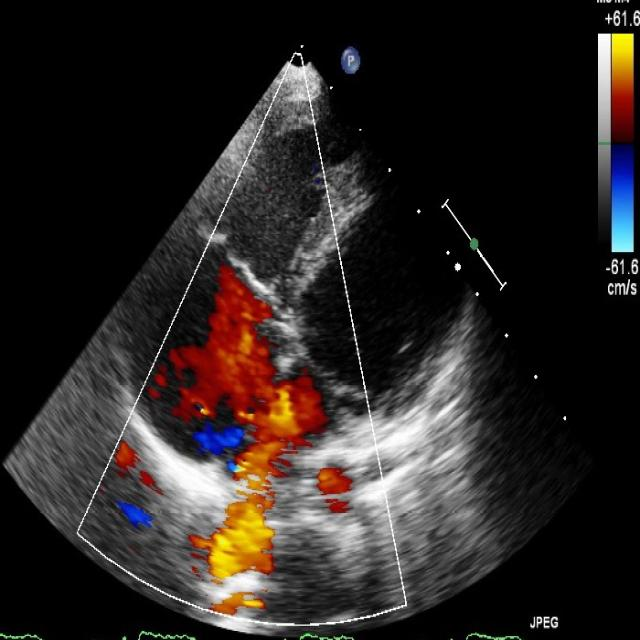ASDType2: (203, 356, 332, 474)
